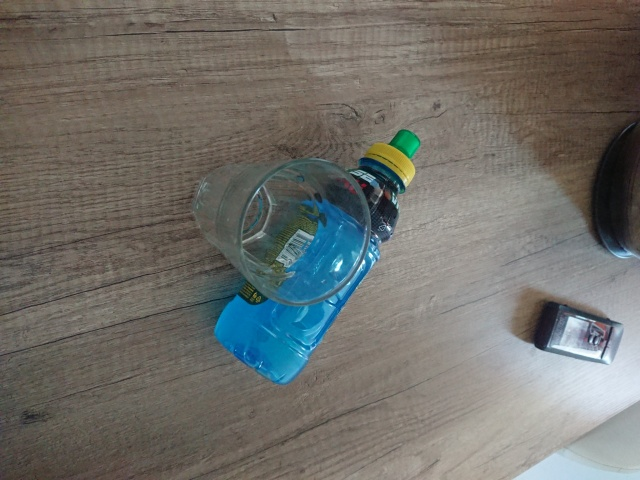Vindi Iso Sport Forest Strawberries 500mL: (211, 126, 422, 387)
